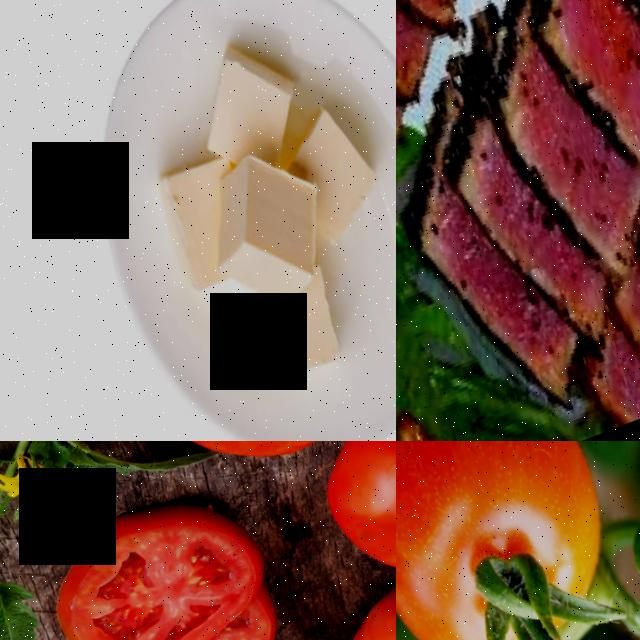tofu: (187, 133, 368, 330), (174, 22, 333, 185)
tomato: (396, 441, 640, 640), (26, 471, 300, 640), (284, 441, 396, 622)
